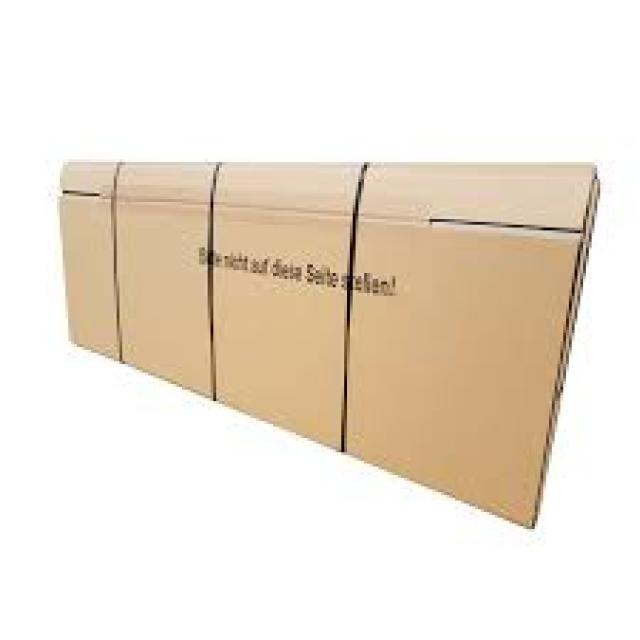cardboard: (57, 157, 597, 527)
